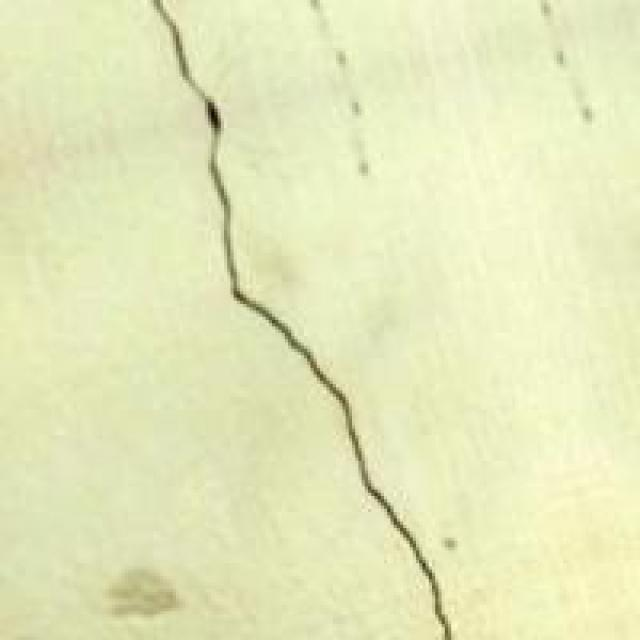crack: (141, 0, 480, 637)
